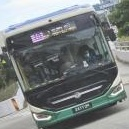bus: (29, 31, 44, 43)
